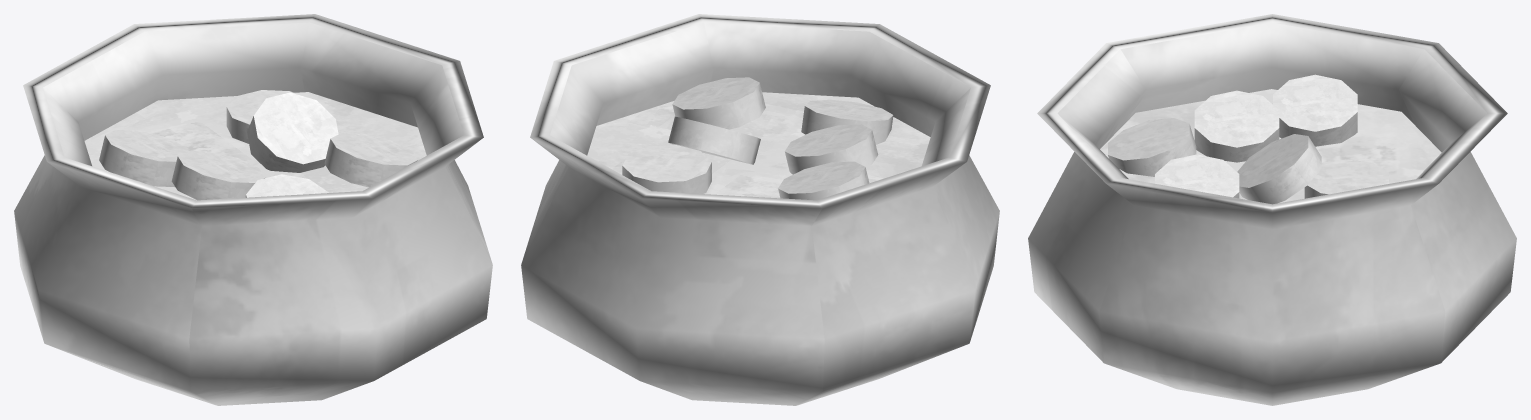
File: Gold_purse.fbx
The picture shows the model from 3 angles, left to right: view 1: azimuth 30°, elevation 25°; view 2: azimuth 150°, elevation 25°; view 3: azimuth 270°, elevation 25°; orthographic projection.
Visible parts, largest first — view 1: polySurface50; view 2: polySurface50; view 3: polySurface50.
Part boxes in pixels (bbox=[...]): polySurface50: bbox=[14, 14, 492, 405]; polySurface50: bbox=[521, 14, 999, 405]; polySurface50: bbox=[1028, 14, 1516, 405].
Size of the model in its own units: 0.55 by 0.2922 by 0.55.
